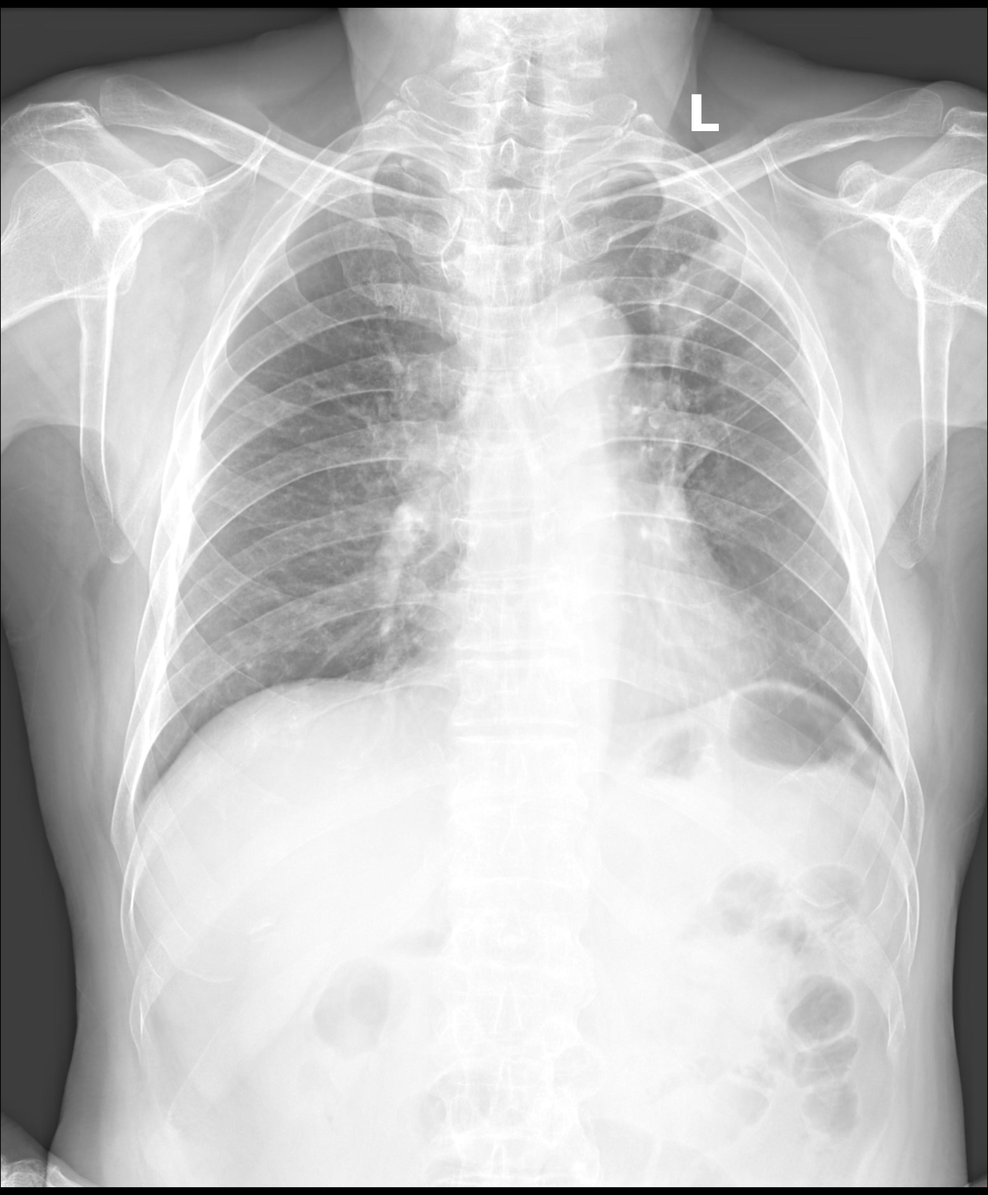Aortic enlargement: (527, 294, 633, 399)
Pleural thickening: (650, 193, 778, 355), (586, 157, 678, 175)
Pulmonary fibrosis: (671, 316, 797, 490)
